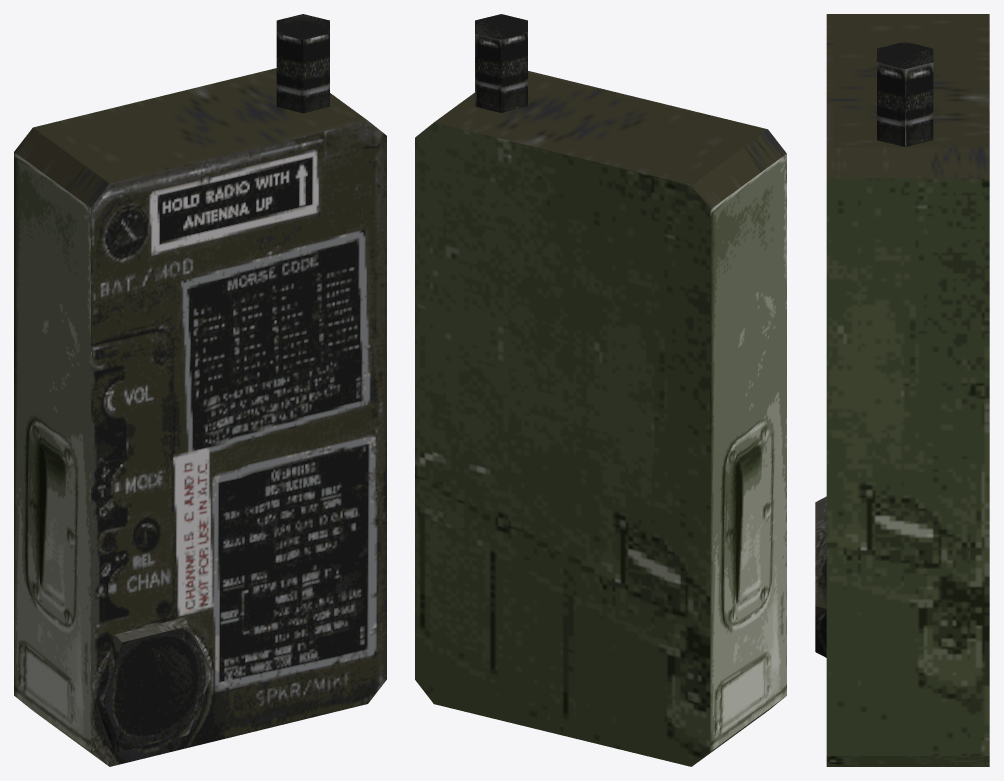
Rendered from BeeperPH.fbx.
3 views of the same model, side by side, from view 1: azimuth 30°, elevation 25°; view 2: azimuth 150°, elevation 25°; view 3: azimuth 270°, elevation 25° (orthographic). The views are drawn at different scales.
Visible parts, largest first — view 1: BeeperPH; view 2: BeeperPH; view 3: BeeperPH.
Boxes of the visible parts, <box> form: BeeperPH: <box>14,14,386,766</box>; BeeperPH: <box>415,14,786,766</box>; BeeperPH: <box>815,14,989,766</box>.
Bounding box in the file's own units: 0.5941 × 1.26 × 0.2855.
